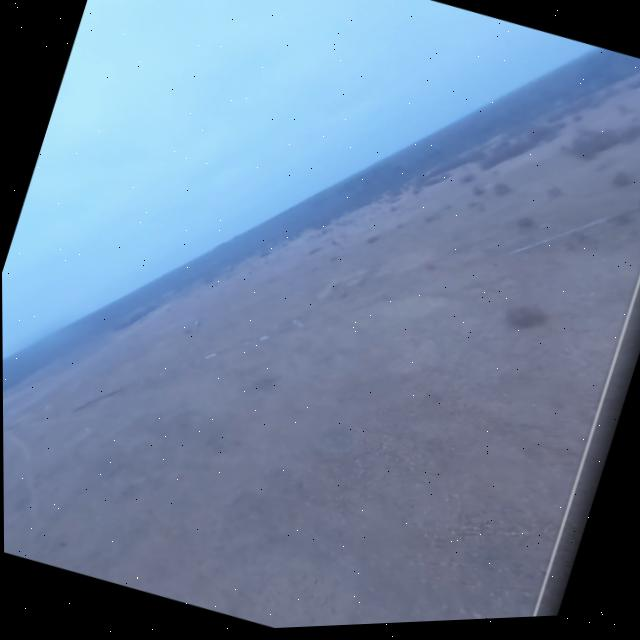planedrone: (186, 315, 205, 335)
